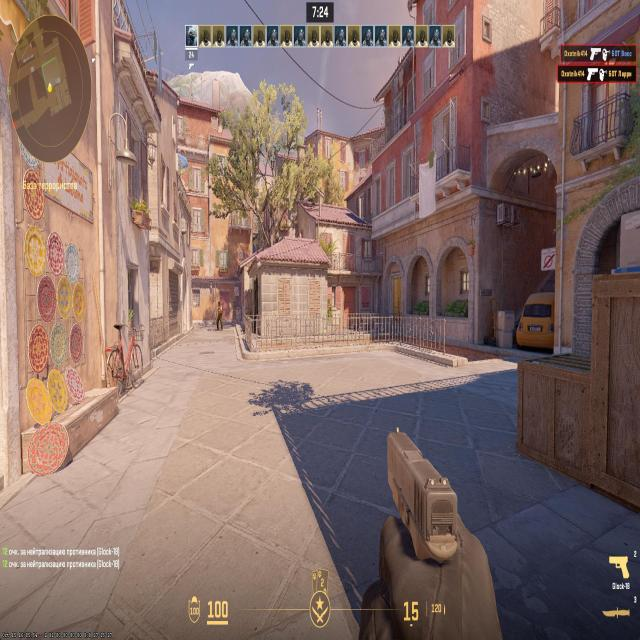T: (217, 300, 222, 328)
T_heat: (218, 302, 220, 307)
